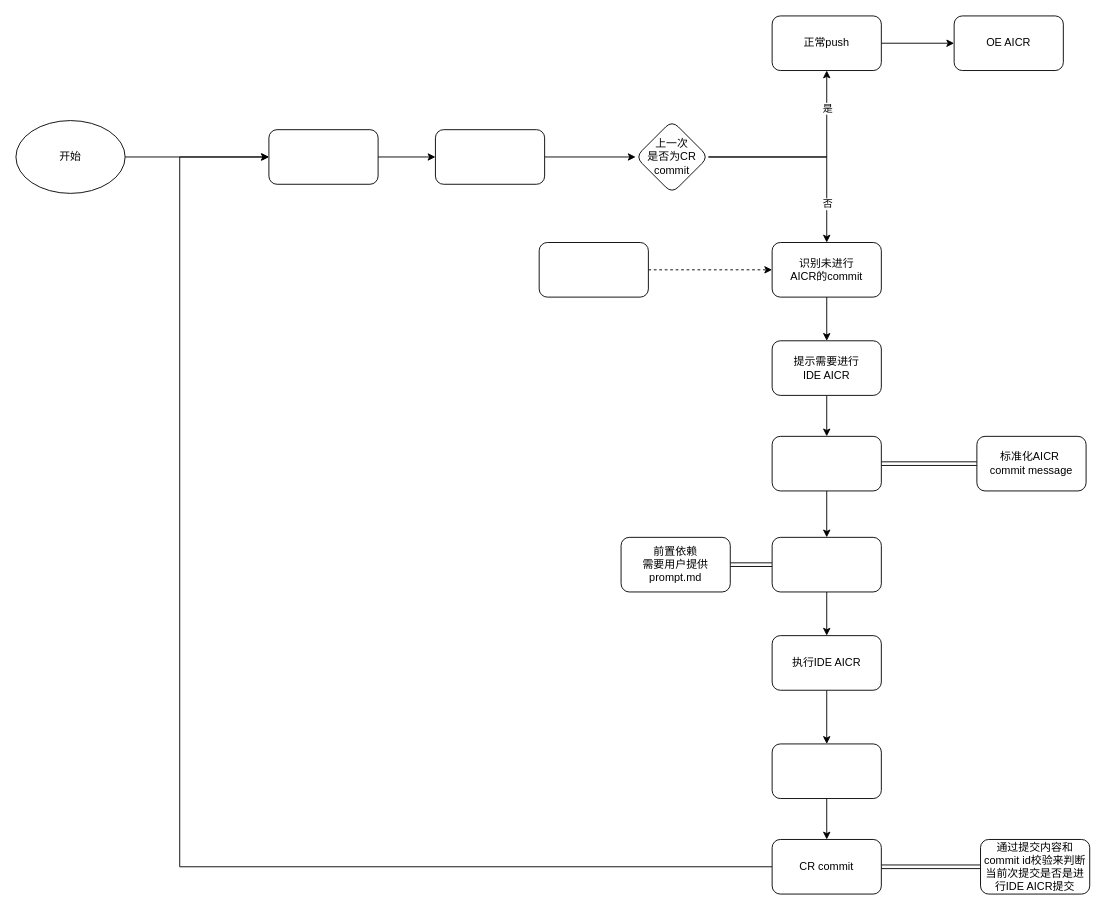
Image size: 1106x910. Some labels were removed from this diagram. The shapes that lost their labels are listed below. From the top down, each one's centre as x and y in pixels, then its label:
the point at 323,156: git push
the point at 490,156: husky pre-push
the point at 593,269: git commit
the point at 826,463: 根据commit message找到起始commit
the point at 826,564: 生成起止commit id IDE CR所需的 prompt文件
the point at 826,771: 生成AICR report
